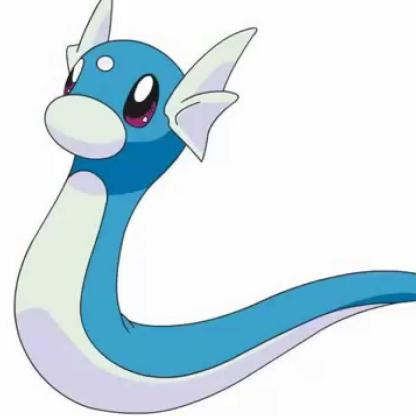Dratini: (9, 1, 416, 416)
